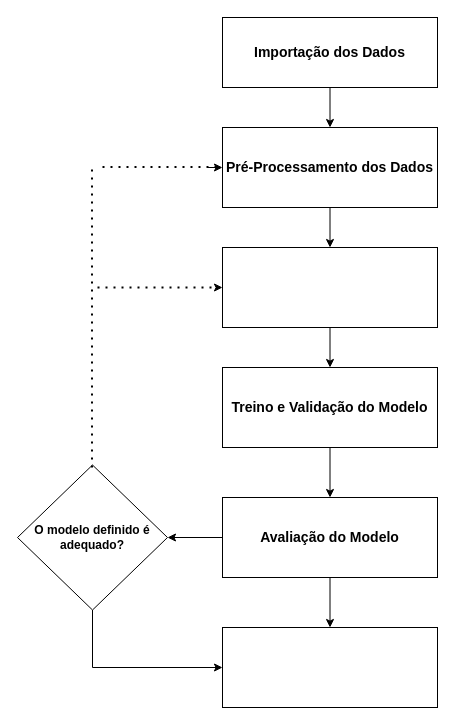
Some shapes in this 455 by 725 pixel diagram are drawn without their labels. Each missing label, with the centre of its shape:
"Definição do Modelo" belongs at point 330,287.
"Previsão" belongs at point 330,667.
